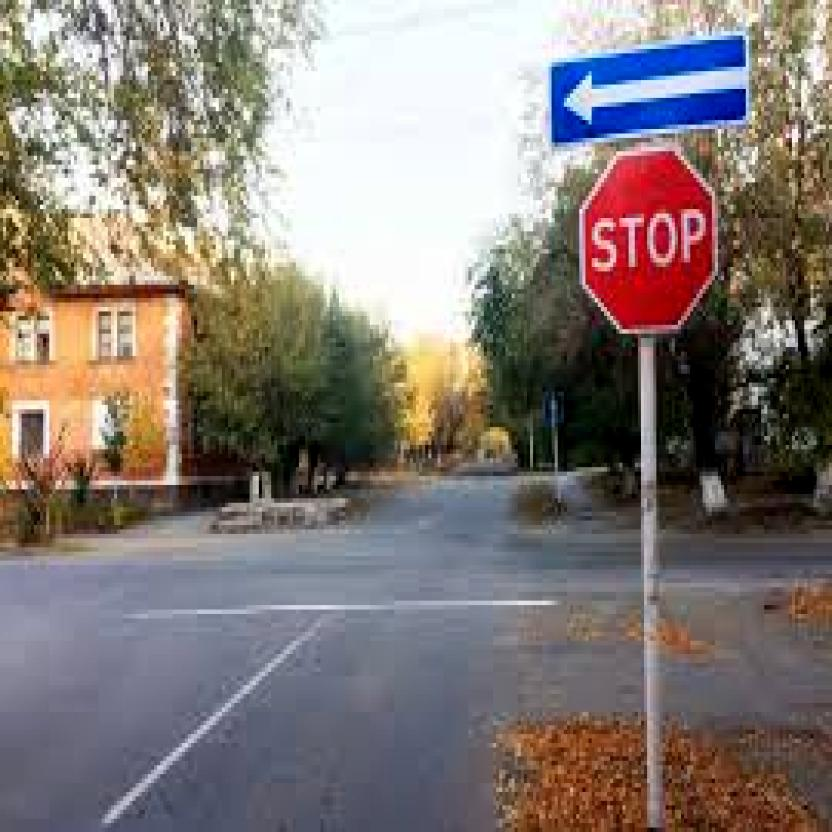Pole: (640, 337, 662, 826)
Sign: (576, 147, 715, 334)
